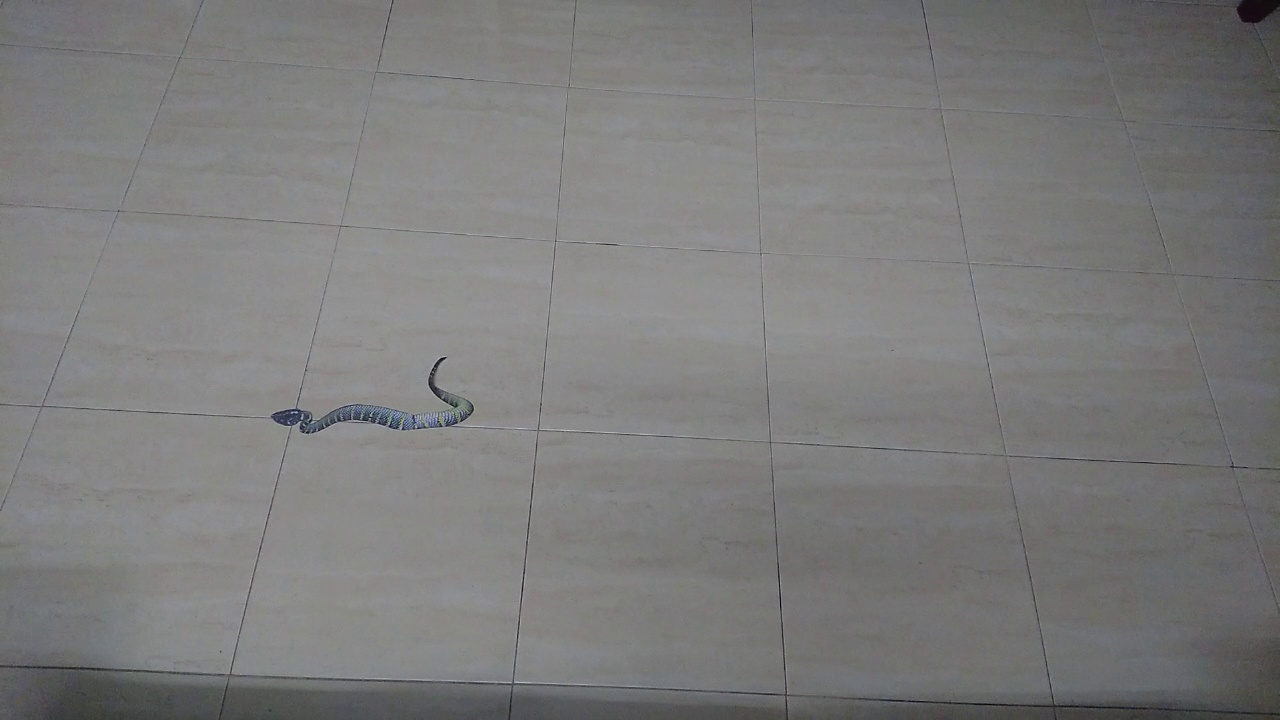snake: (244, 333, 501, 452)
